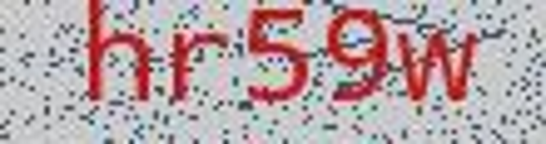5: (241, 4, 316, 113)
9: (320, 3, 390, 107)
h: (76, 1, 154, 114)
r: (164, 22, 233, 113)
w: (394, 19, 488, 116)
